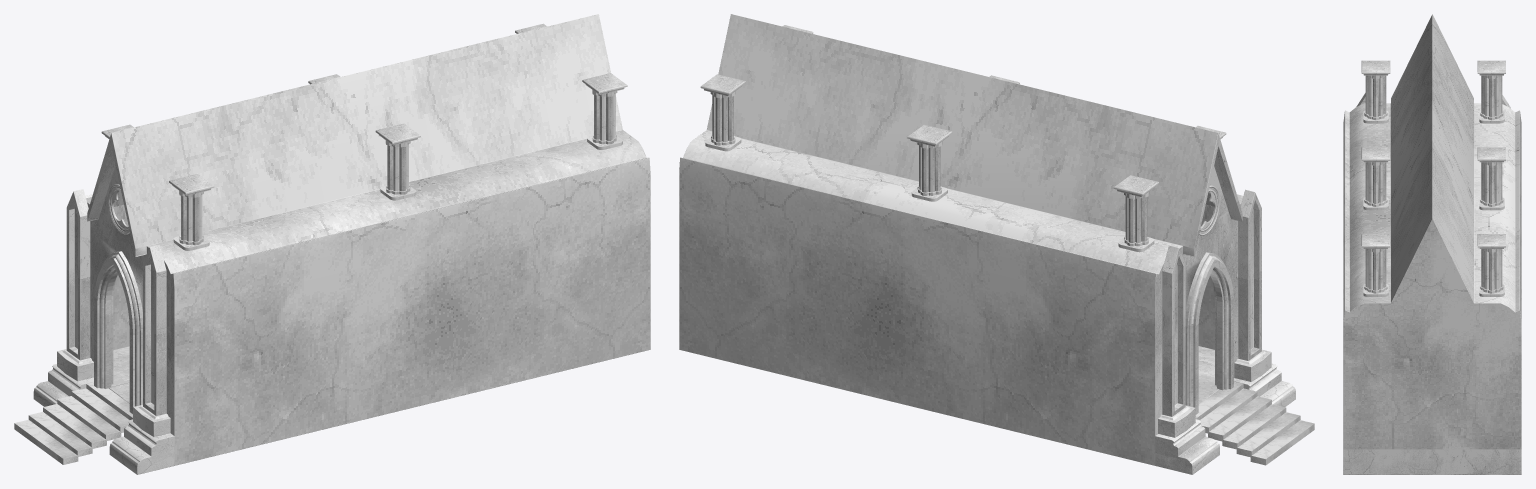
The model's file is whole-ass_mausoleum.glb.
3 renders of one model, left to right at view 1: azimuth 30°, elevation 25°; view 2: azimuth 150°, elevation 25°; view 3: azimuth 270°, elevation 25°, orthographic. The views are drawn at different scales.
Visible parts, largest first — view 1: mainbody, pillarstone-modifiedsize, stairs, arch-col; view 2: mainbody, pillarstone-modifiedsize, stairs, arch-col; view 3: mainbody, pillarstone-modifiedsize.
Boxes of the visible parts, x1,y1,x2,y2 form: mainbody: [33, 14, 650, 474]; pillarstone-modifiedsize: [101, 23, 627, 250]; stairs: [14, 382, 132, 464]; arch-col: [94, 251, 142, 413]; mainbody: [679, 14, 1295, 474]; pillarstone-modifiedsize: [700, 25, 1226, 252]; stairs: [1195, 381, 1314, 465]; arch-col: [1185, 252, 1233, 414]; mainbody: [1343, 14, 1521, 474]; pillarstone-modifiedsize: [1361, 60, 1505, 296].
Size of the model in its own units: 36.46 by 18.55 by 11.68.
Materials: 5 (4 with a texture image).
